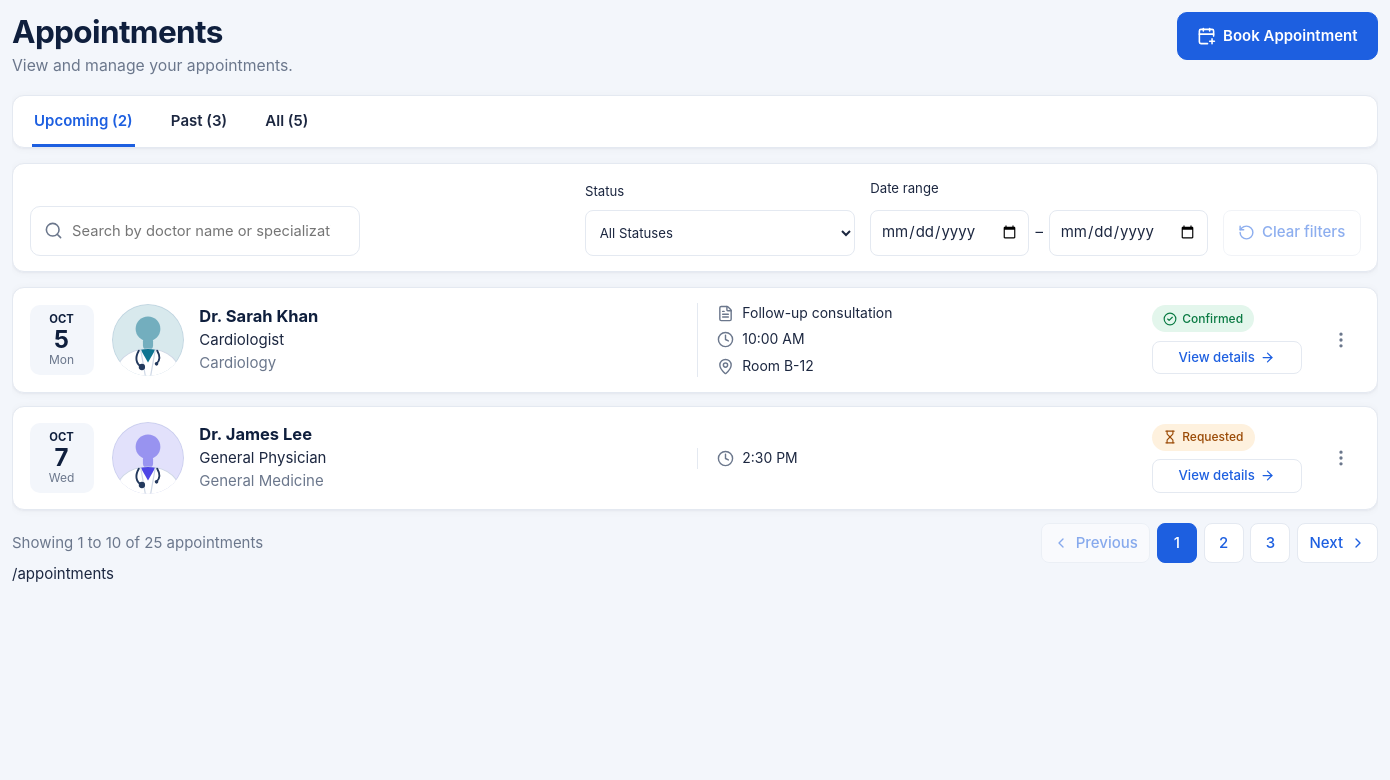
it: pagination › shows the range and moves between pages
Expected: the text "Showing 1 to 10 of 25 appointments" is shown, [12,532,263,554]
What coordinates should you click on to do the following:
click the button named "Page 3"
I would click on:
 (1270, 543)
Its box is [1250,523,1290,563].
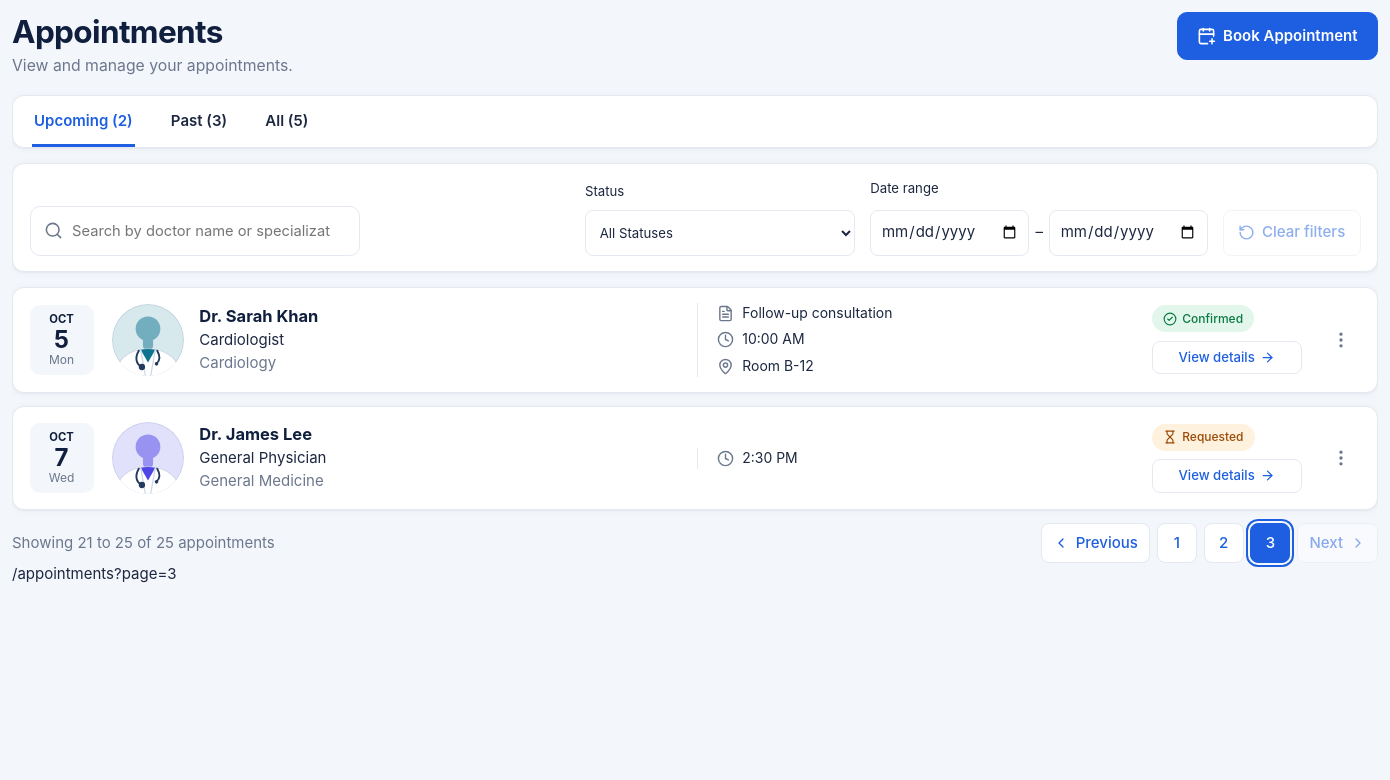
Expected: the text "Showing 21 to 25 of 25 appointments" is shown, [12,532,275,554]
